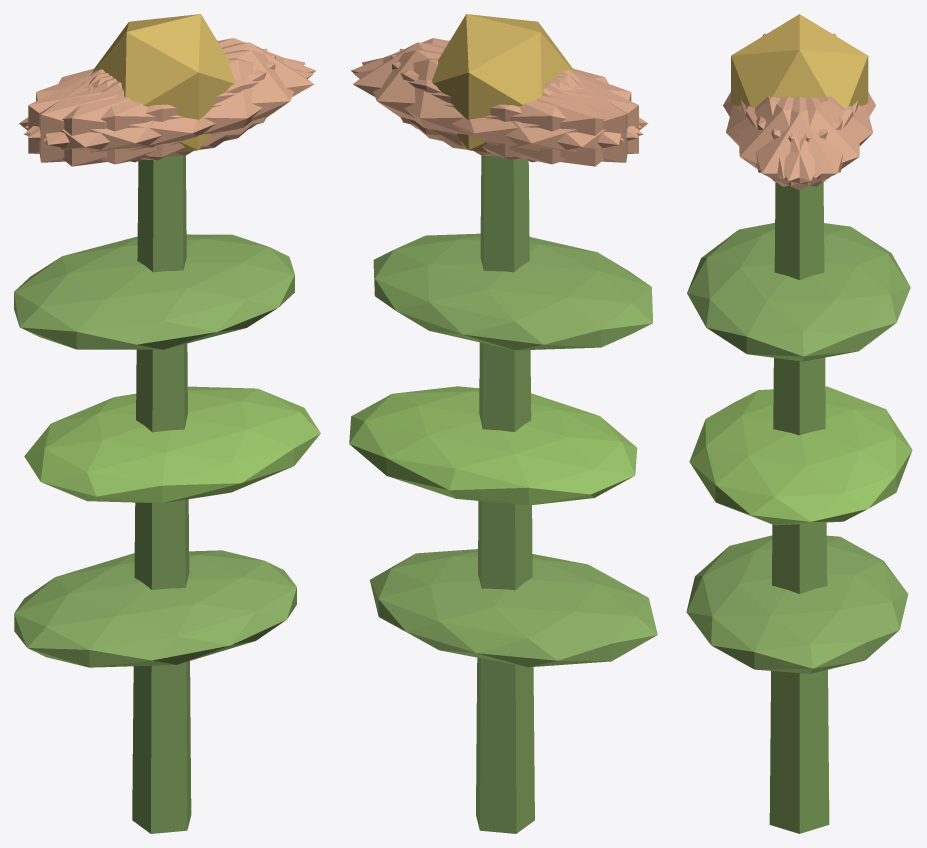
Rendered from crossandra-infundibuliformis.glb.
3 views of the same model, side by side, from view 1: azimuth 30°, elevation 25°; view 2: azimuth 150°, elevation 25°; view 3: azimuth 270°, elevation 25° (orthographic).
Parts seen in each view (by area): view 1: stem, leaf2, leaf1, leaf0, center, petal1, petal6, petal2, petal5, petal7, petal0, petal4 (+2 smaller); view 2: stem, leaf1, leaf2, leaf0, center, petal8, petal3, petal7, petal4, petal2, petal0, petal5 (+2 smaller); view 3: leaf1, stem, leaf2, leaf0, center, petal0, petal5, petal4, petal1, petal8.
Part boxes in pixels (x1,y1,x2,y2): stem: (132, 155, 191, 833); leaf2: (14, 234, 294, 349); leaf1: (24, 386, 320, 503); leaf0: (14, 550, 296, 667); center: (92, 14, 234, 152); petal1: (23, 58, 313, 164); petal6: (19, 71, 228, 166); petal2: (39, 48, 267, 162); petal5: (43, 49, 305, 157); petal7: (28, 55, 275, 160); petal0: (92, 42, 314, 146); petal4: (25, 38, 316, 137); stem: (476, 155, 534, 833); leaf1: (349, 386, 637, 505); leaf2: (373, 233, 653, 350); leaf0: (370, 549, 657, 667); center: (432, 14, 574, 152); petal8: (353, 58, 643, 164); petal3: (438, 71, 647, 166); petal7: (399, 48, 627, 162); petal4: (362, 49, 623, 157); petal2: (391, 55, 638, 160); petal0: (353, 42, 575, 146); petal5: (351, 38, 642, 138); leaf1: (689, 386, 912, 525); stem: (769, 182, 829, 833); leaf2: (687, 223, 910, 361); leaf0: (686, 535, 908, 673); center: (731, 14, 868, 107); petal0: (740, 96, 858, 190); petal5: (739, 96, 853, 186); petal4: (746, 96, 859, 186); petal1: (726, 96, 842, 178); petal8: (756, 96, 872, 178).
Bounding box in the file's own units: 0.1497 × 0.3884 × 0.1009.
